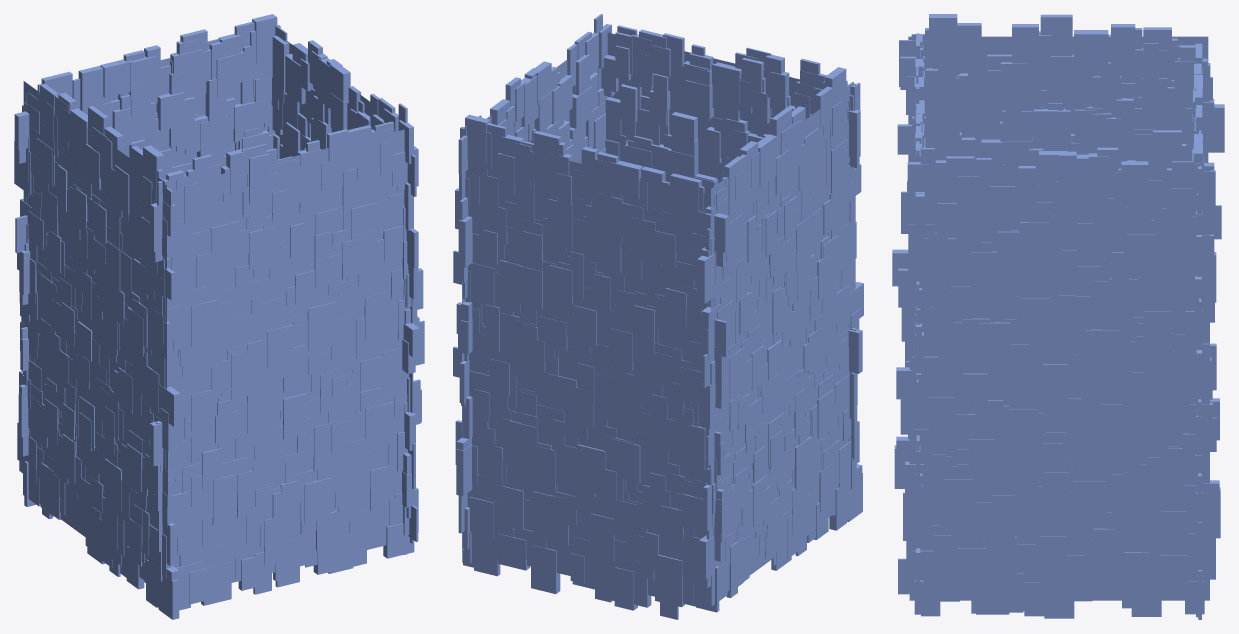
File: parallellipiped_wall.fbx
The picture shows the model from 3 angles, left to right: view 1: azimuth 30°, elevation 25°; view 2: azimuth 150°, elevation 25°; view 3: azimuth 270°, elevation 25°; orthographic projection. The views are drawn at different scales.
Visible parts, largest first — view 1: Plane.002, Plane.001, Plane.004, Plane.003; view 2: Plane.004, Plane.001, Plane.002, Plane.003; view 3: Plane.003, Plane.001, Plane.004, Plane.002.
Part boxes in pixels (x1,y1,x2,y2): Plane.002: (149, 121, 424, 610); Plane.001: (14, 81, 180, 619); Plane.004: (14, 14, 280, 506); Plane.003: (267, 25, 419, 554); Plane.004: (453, 114, 729, 619); Plane.001: (697, 67, 863, 606); Plane.002: (601, 25, 862, 489); Plane.003: (456, 14, 611, 563); Plane.003: (896, 147, 1220, 618); Plane.001: (892, 14, 1224, 488); Plane.004: (1192, 43, 1203, 619); Plane.002: (914, 33, 925, 614).
Bounding box in the file's own units: 3243 × 5252 × 3262.
